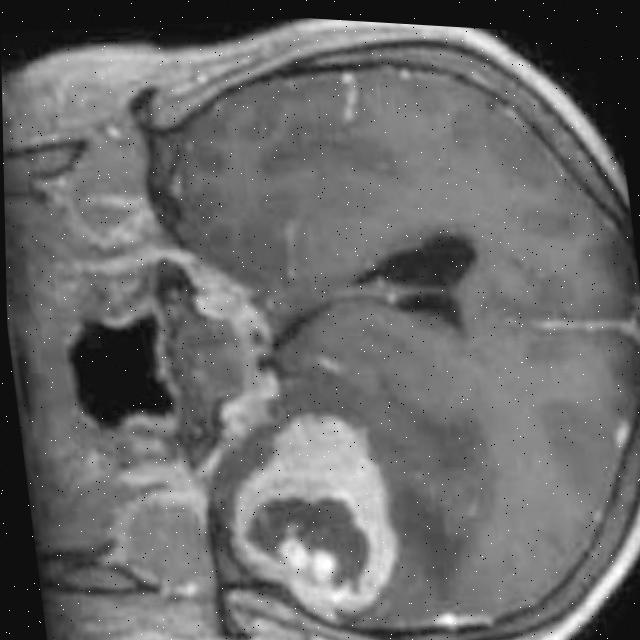Meningioma: (212, 397, 409, 640)
